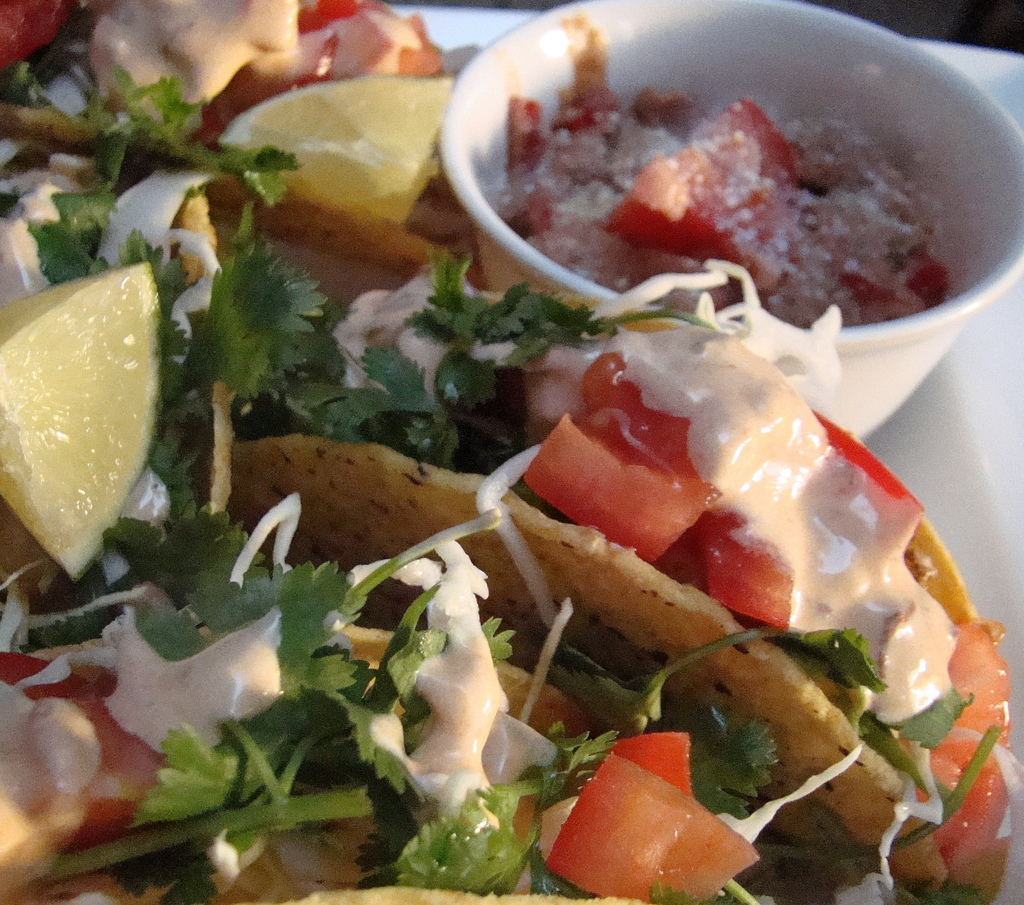taco: (192, 257, 1015, 898)
